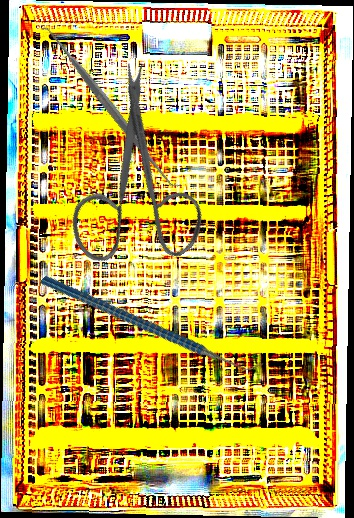Chopper: (39, 212, 266, 432)
Iris Scissors: (7, 55, 253, 302)
Spatula Surgical: (36, 17, 186, 199)
